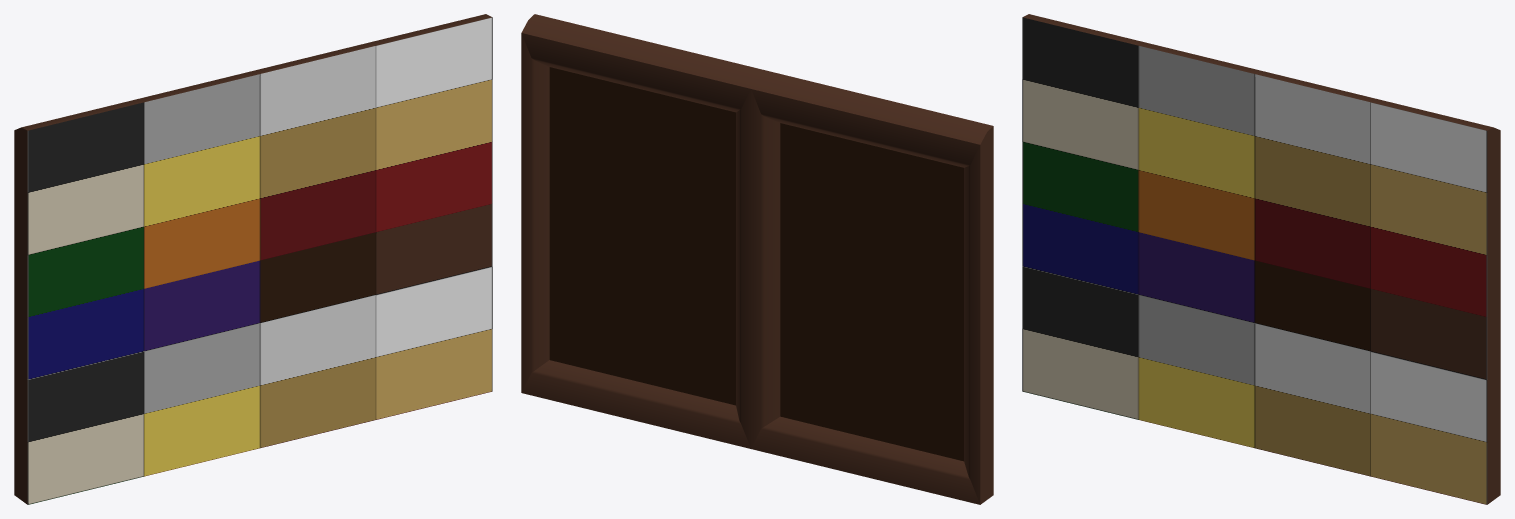
Rendered from MiscWallTrim.fbx.
3 views of the same model, side by side, from view 1: azimuth 30°, elevation 25°; view 2: azimuth 150°, elevation 25°; view 3: azimuth 330°, elevation 25° (orthographic).
Parts seen in each view (by area): view 1: pCube2; view 2: pCube2; view 3: pCube2.
Part boxes in pixels (box(x1,y1,x2,y2)): pCube2: box(14, 14, 492, 504); pCube2: box(521, 14, 993, 504); pCube2: box(1022, 14, 1500, 504).
Bounding box in the file's own units: 100 × 76.92 × 5.
